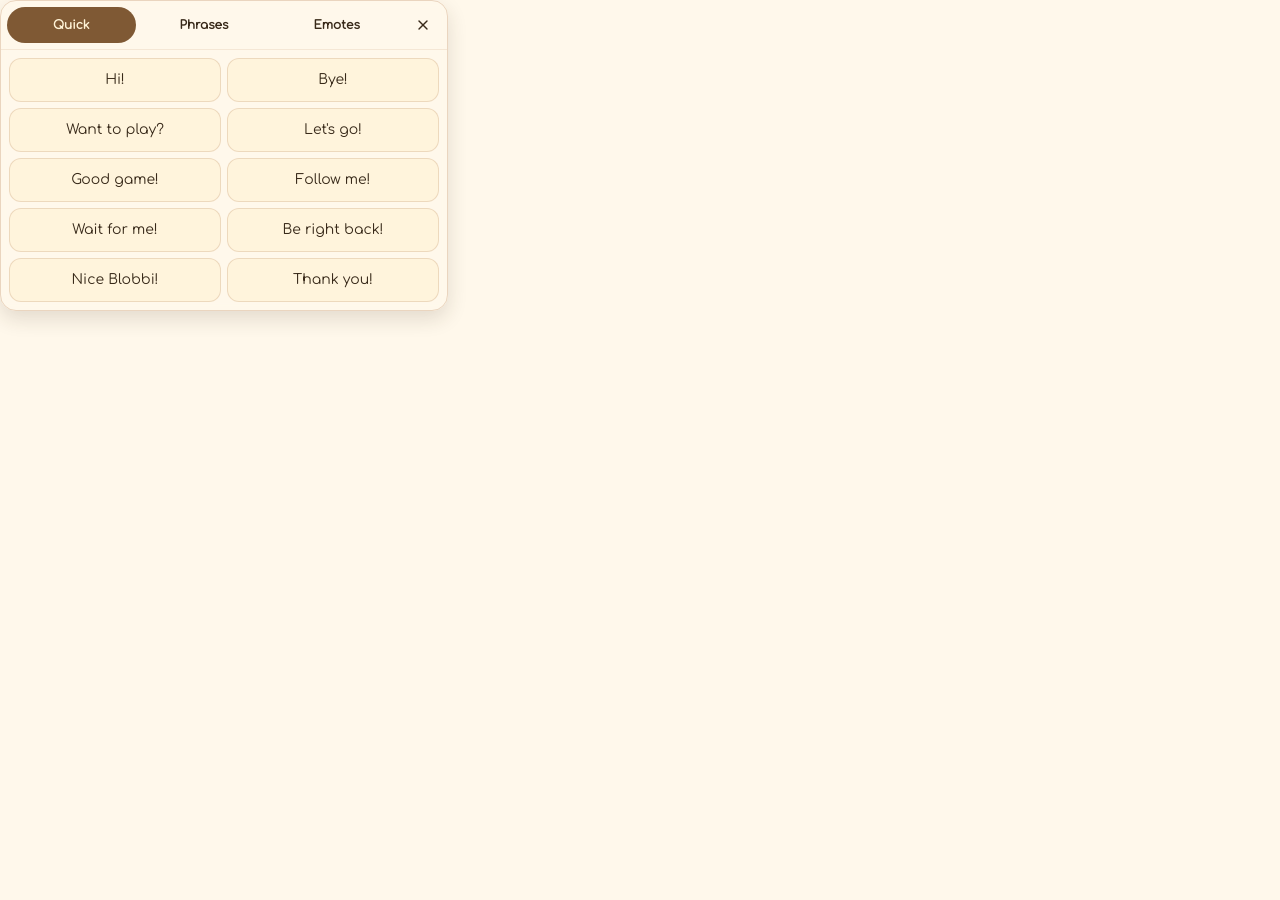
Test: the phrase builder › lists the templates before asking for values
The image size is (1280, 900).
Click the tab "Phrases" at point(204, 25), box [140,7,268,43]
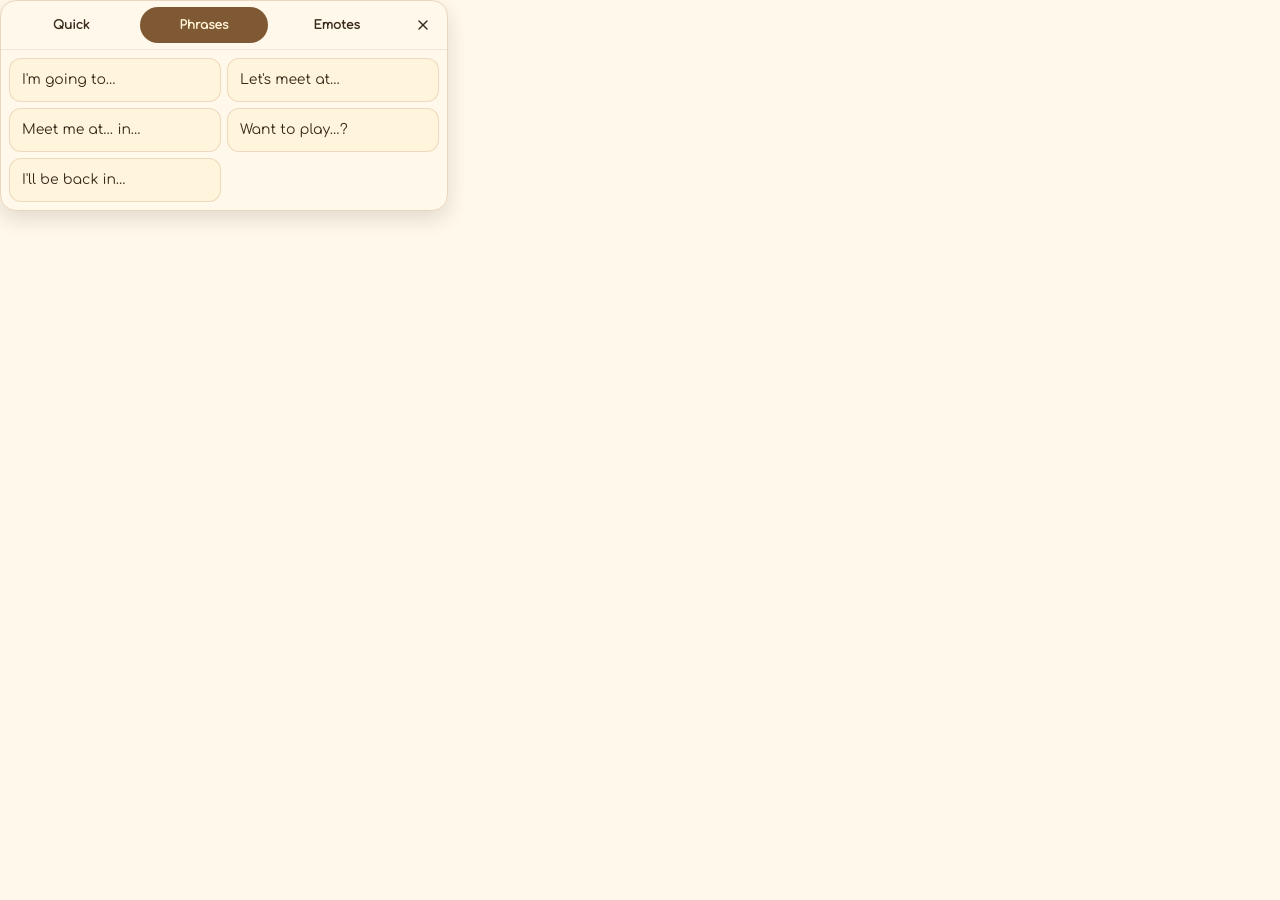
Check: the button "Meet me at… in…" is shown, box [9,108,221,152]
